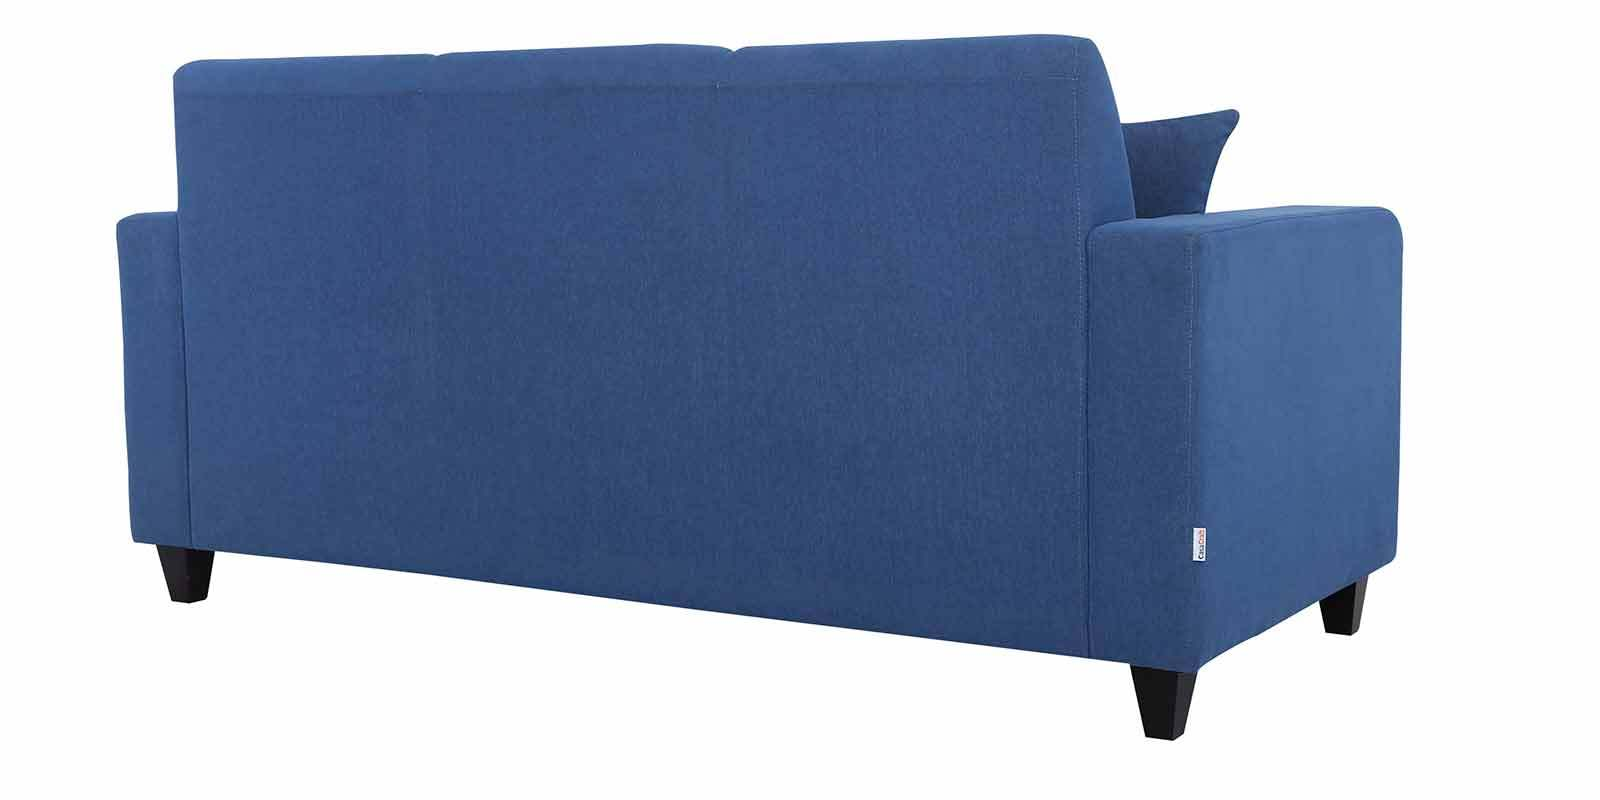Alba Three Seater Sofa in Denim Blue Colour by CasaCraft: (82, 28, 1404, 739)
